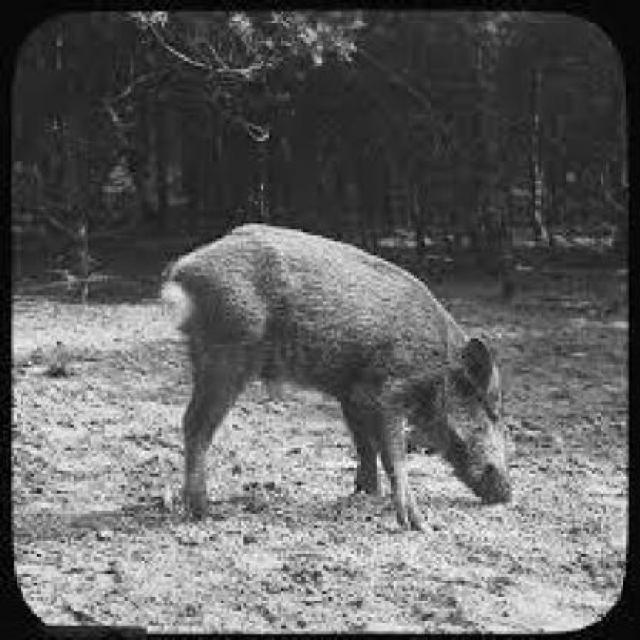wildboar: (157, 216, 523, 541)
